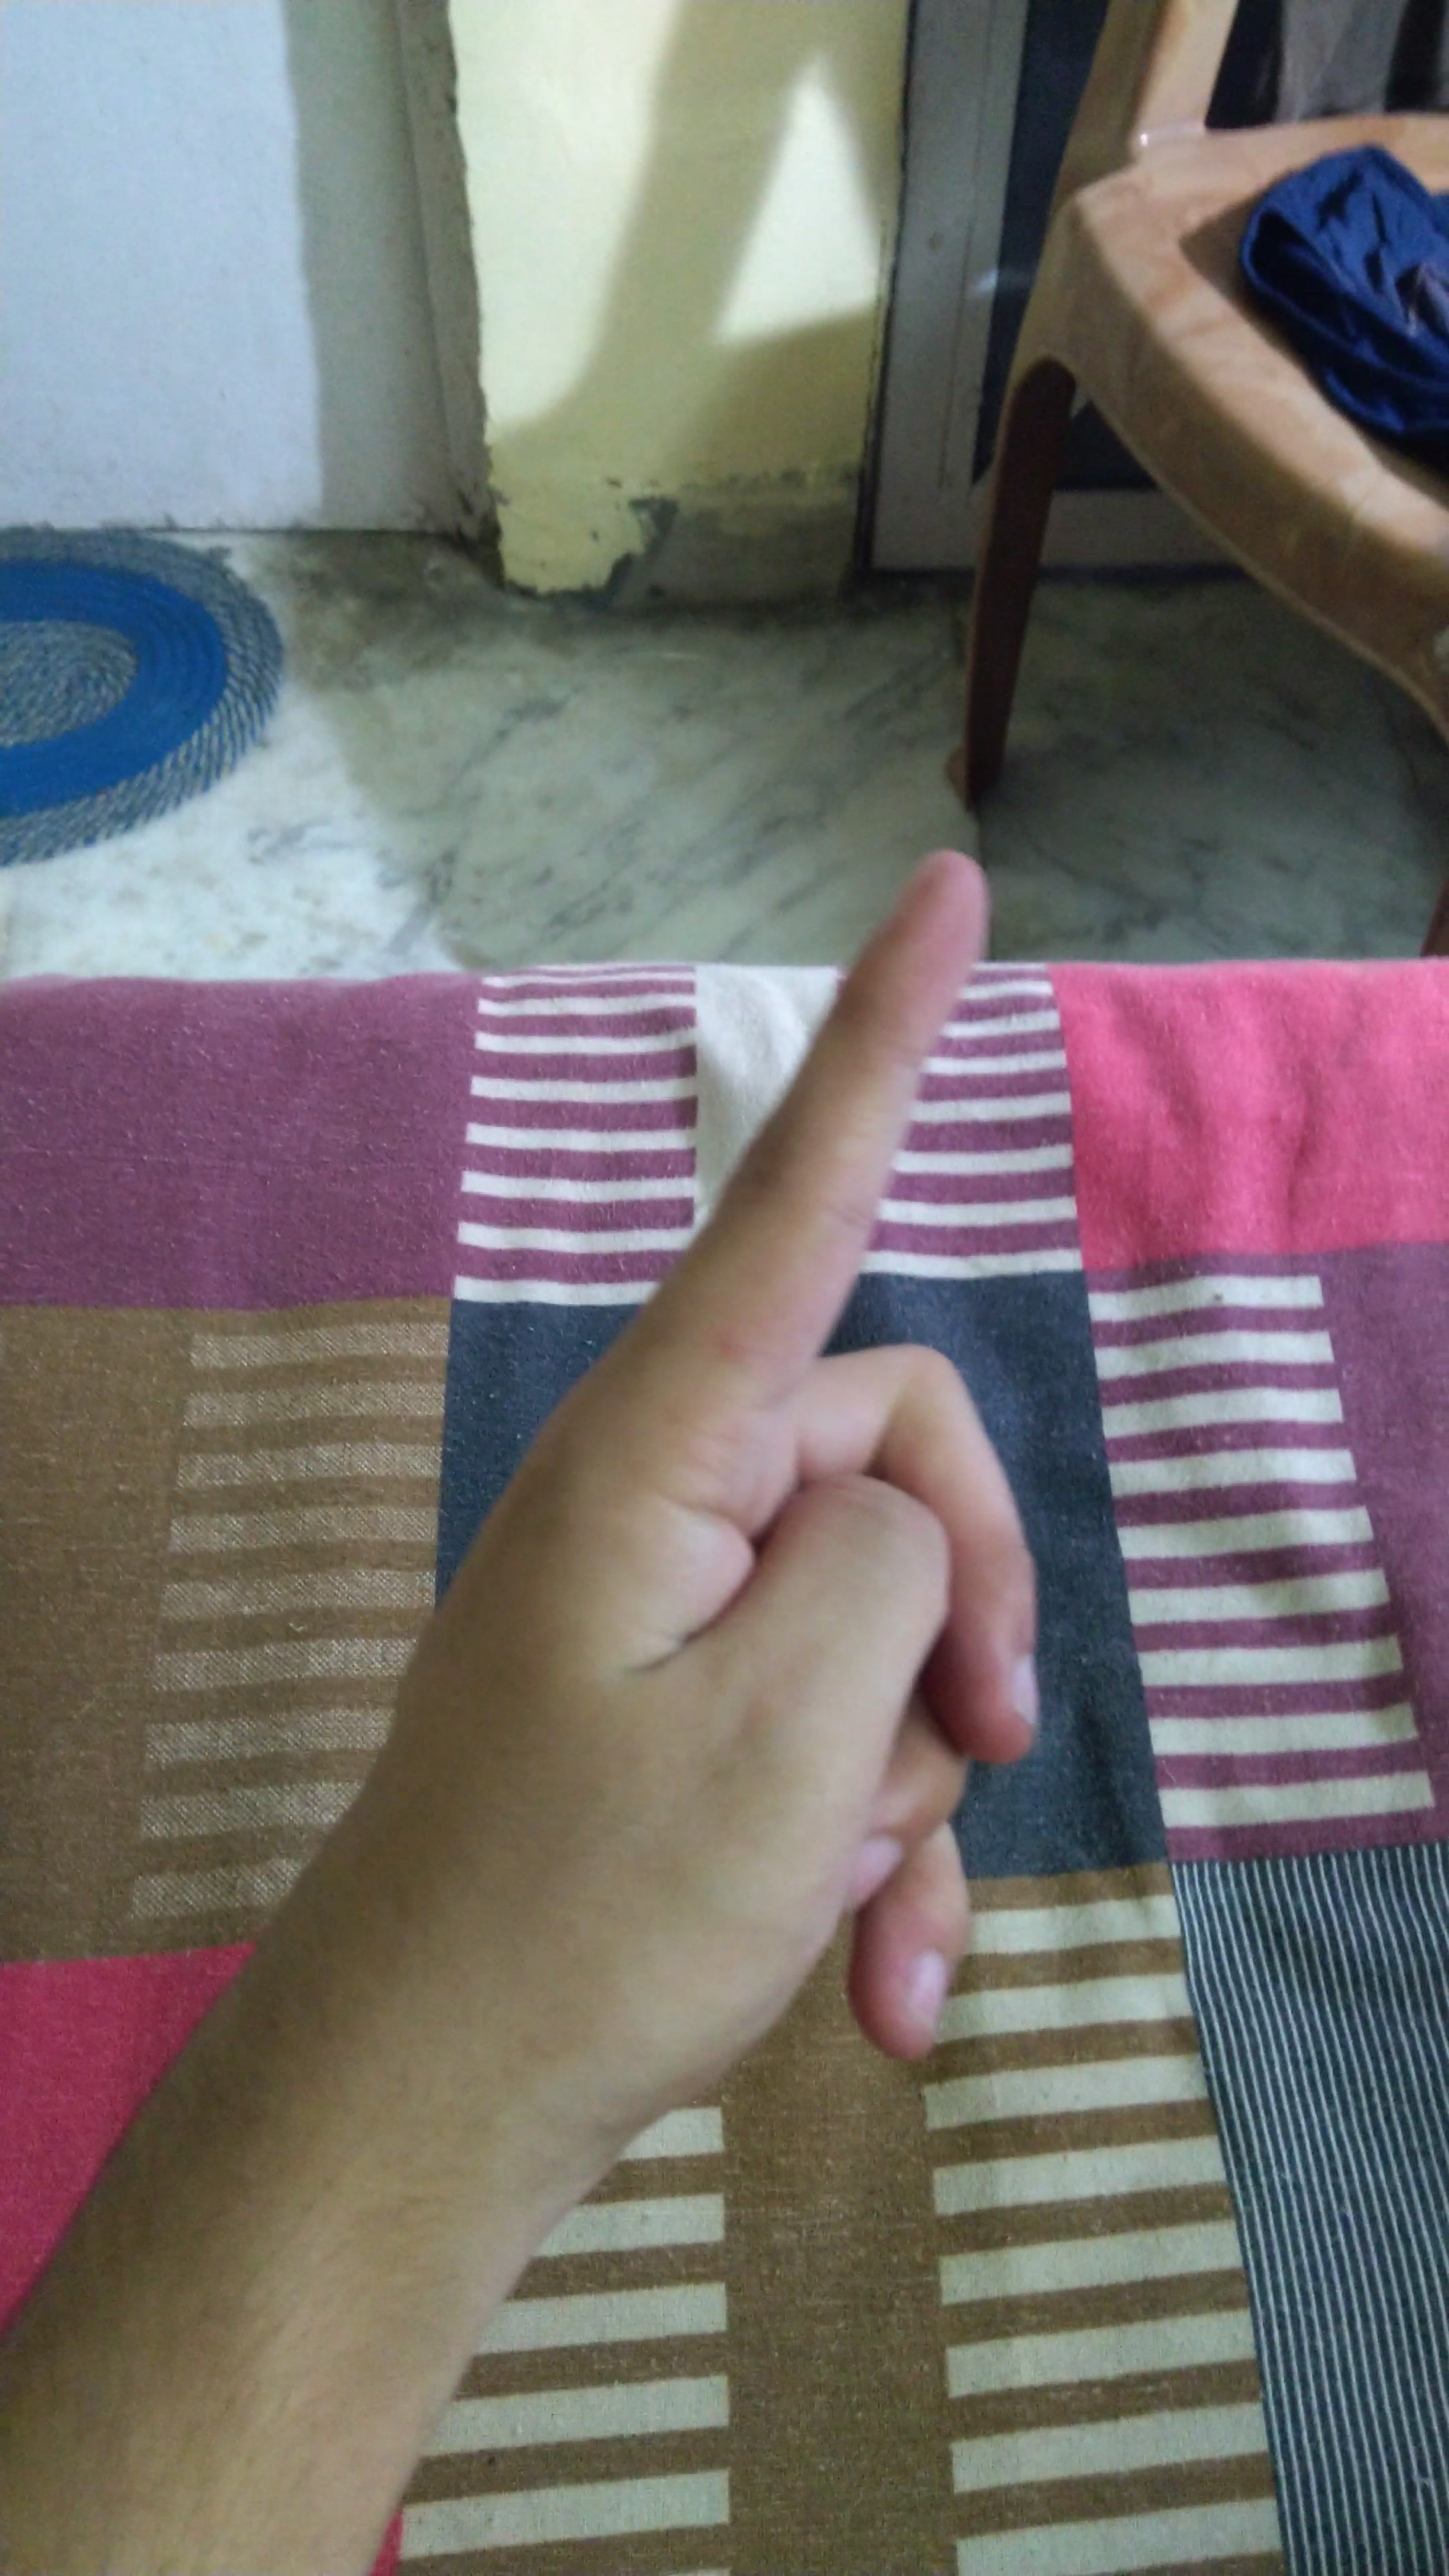hand: (297, 832, 1108, 2166)
